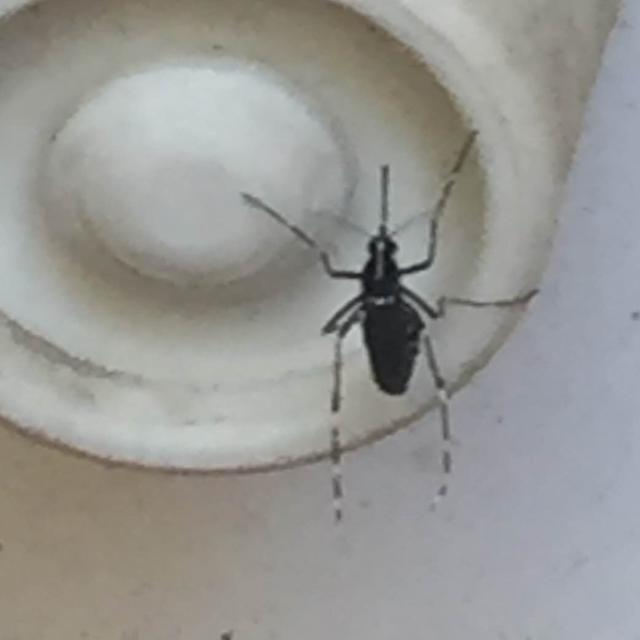albopictus: (217, 120, 545, 491)
